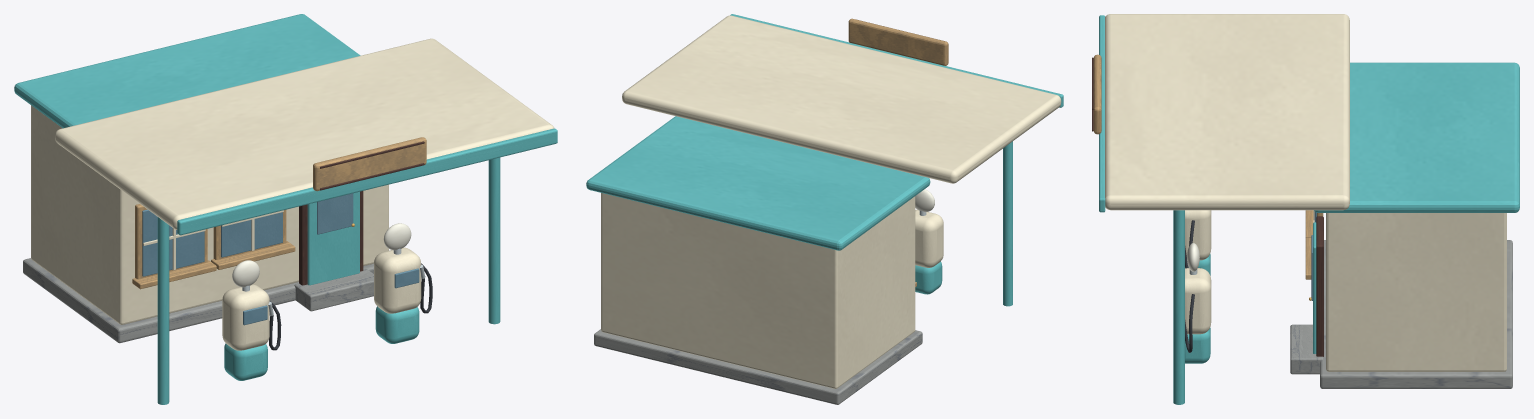
Rendered from house_4.glb.
The picture shows the model from 3 angles, left to right: view 1: azimuth 30°, elevation 25°; view 2: azimuth 150°, elevation 25°; view 3: azimuth 270°, elevation 25°; orthographic projection. The views are drawn at different scales.
Parts seen in each view (by area): view 1: house_4; view 2: house_4; view 3: house_4.
Boxes of the visible parts, <box> form: house_4: <box>14,14,557,404</box>; house_4: <box>586,14,1063,404</box>; house_4: <box>1092,14,1519,404</box>.
Size of the model in its own units: 6.8 by 4.11 by 6.62.
3 materials, 3 textured.
